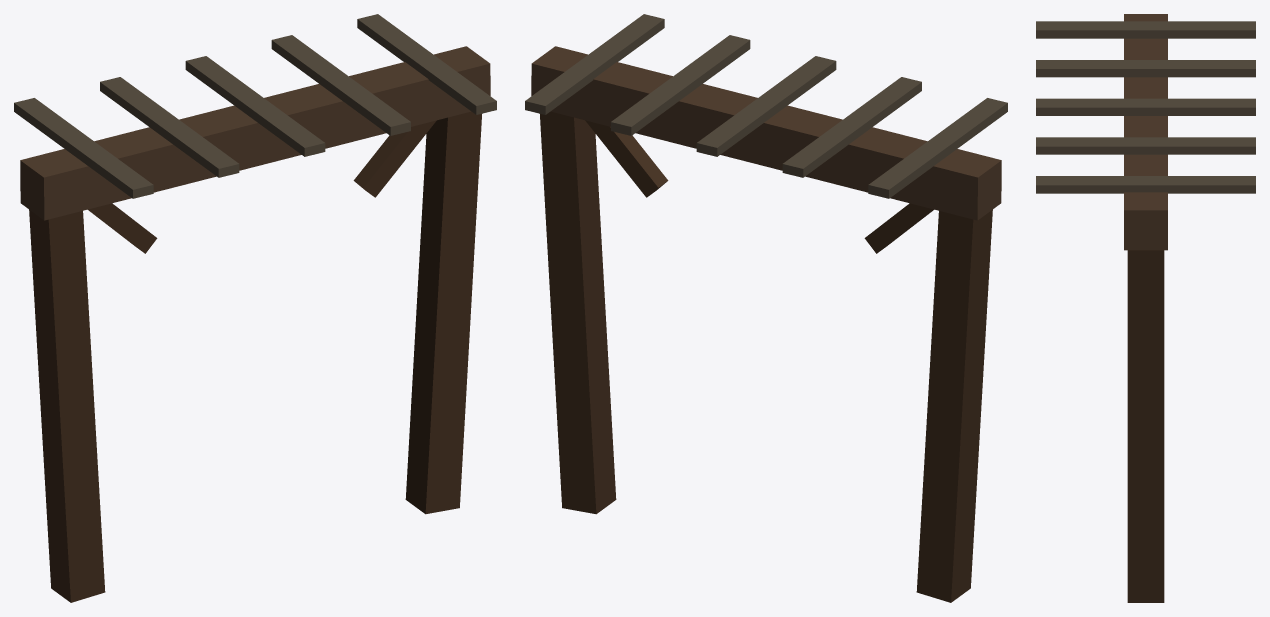
Rendered from TownShoring.glb.
3 renders of one model, left to right at view 1: azimuth 30°, elevation 25°; view 2: azimuth 150°, elevation 25°; view 3: azimuth 270°, elevation 25°, orthographic. The views are drawn at different scales.
Parts seen in each view (by area): view 1: TownShoring.001; view 2: TownShoring.001; view 3: TownShoring.001.
Boxes of the visible parts, x1,y1,x2,y2 form: TownShoring.001: (14, 14, 496, 602); TownShoring.001: (525, 14, 1007, 602); TownShoring.001: (1036, 14, 1255, 602).
Size of the model in its own units: 2.6 by 2.48 by 1.2.
